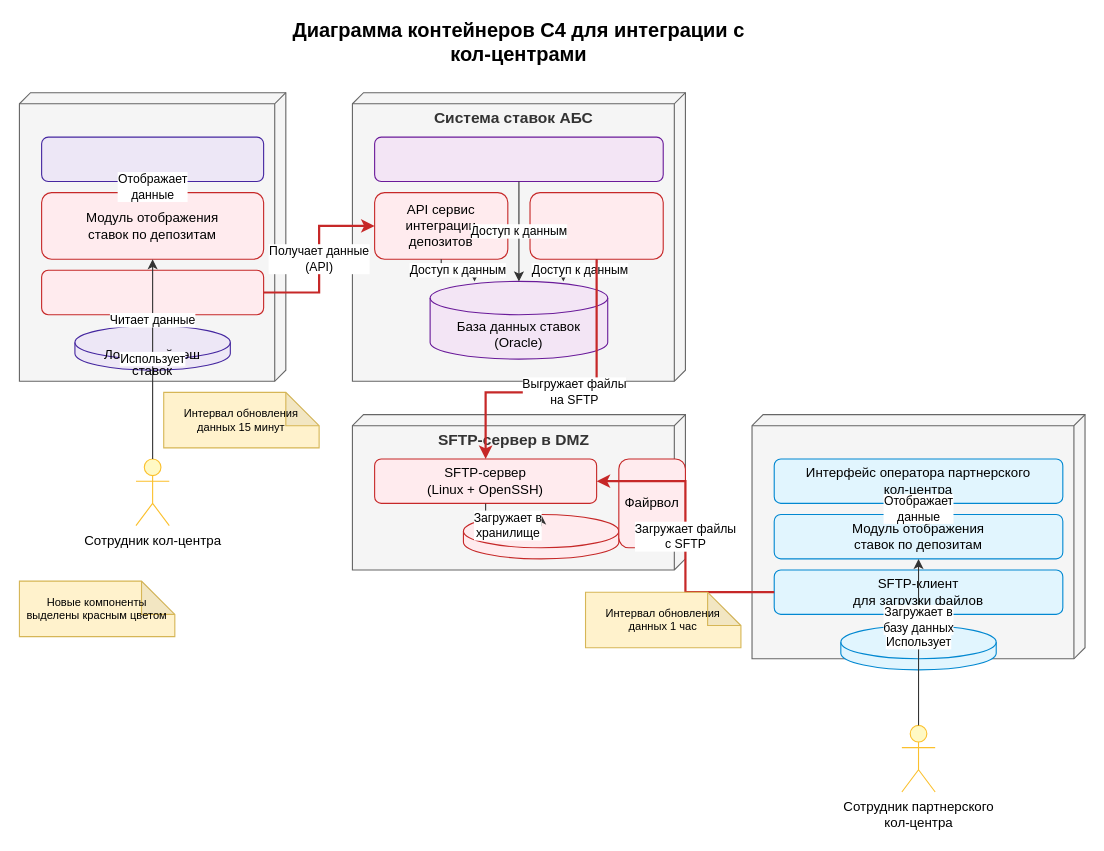
This 1104x851 diagram has some shape labels left out. The box of each missing label's shape, as (x1, y1, x2, y2) in pixels:
API клиент для получения ставок: (41, 269, 264, 315)
База данных кол-центра: (840, 624, 996, 670)
Интерфейс оператора (React.js): (41, 136, 264, 181)
Интерфейс управления ставками (Delphi): (374, 136, 663, 181)
Модуль экспорта ставок в файлы: (529, 191, 663, 259)
Система кол-центра банка: (18, 92, 286, 381)
Система партнерского кол-центра: (751, 413, 1085, 659)
Хранилище файлов со ставками: (462, 513, 619, 559)
